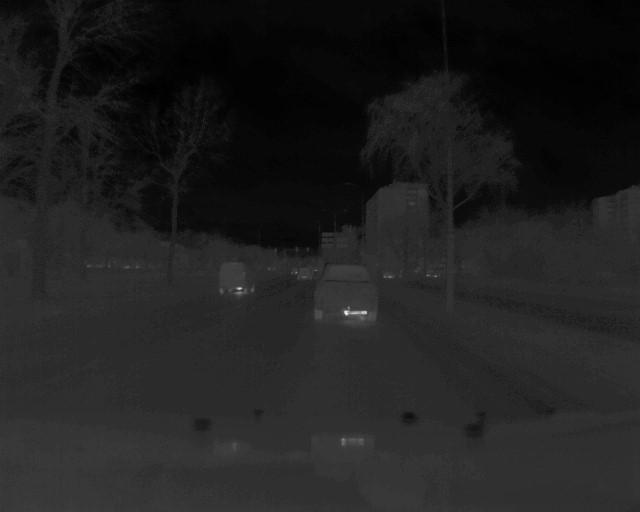car: (315, 262, 378, 326), (215, 258, 257, 296), (295, 264, 314, 283)
